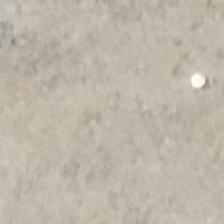Non_Crack: (28, 21, 200, 182)
